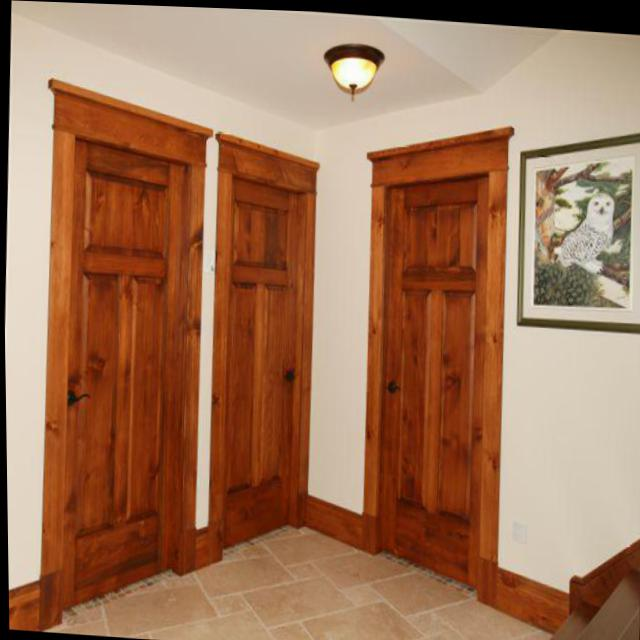close: (24, 71, 217, 606), (346, 102, 526, 597), (198, 107, 330, 562)
